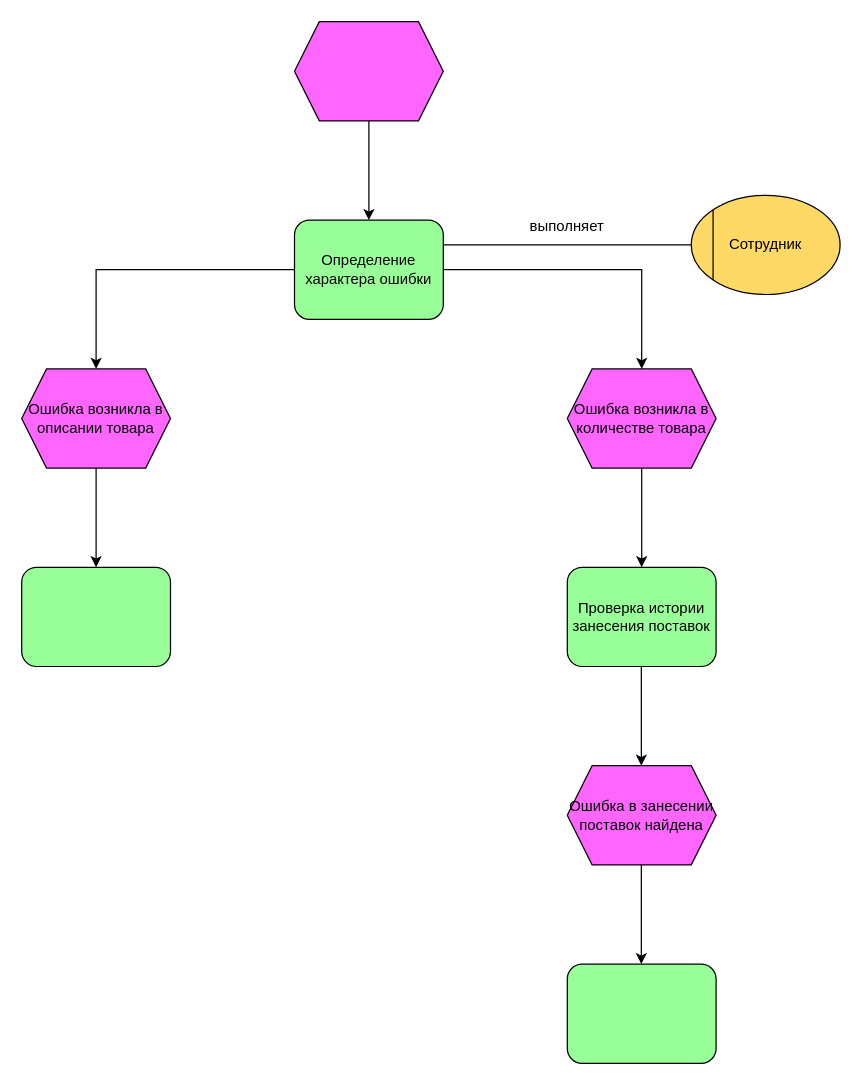
The diagram is 862 pixels wide and 1085 high, and some of its shapes have lost their labels. The centre of each missing label's shape, as x and y in pixels:
"Возникла ошибка в базе данных" belongs at point (368, 70).
"Исправление количества товара" belongs at point (641, 1013).
"Исправление описания товара" belongs at point (95, 616).
